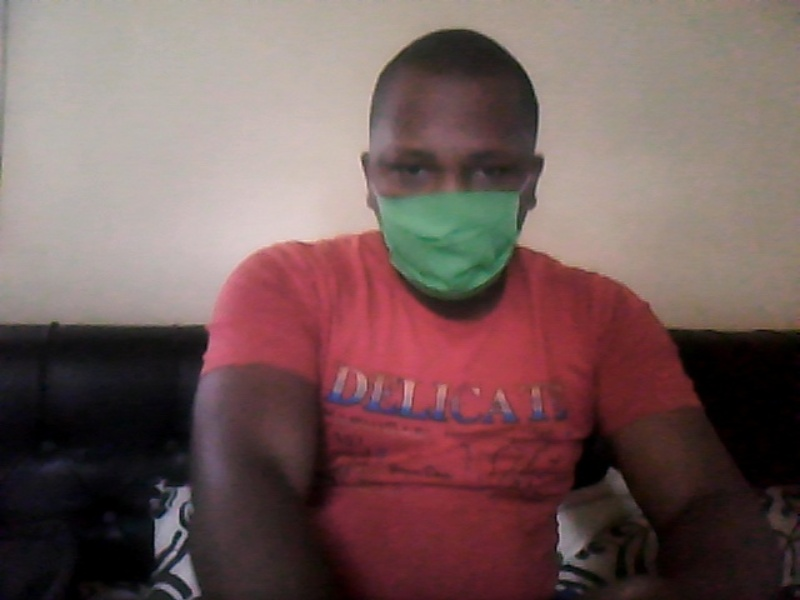ManaoArotava: (358, 35, 548, 316)
